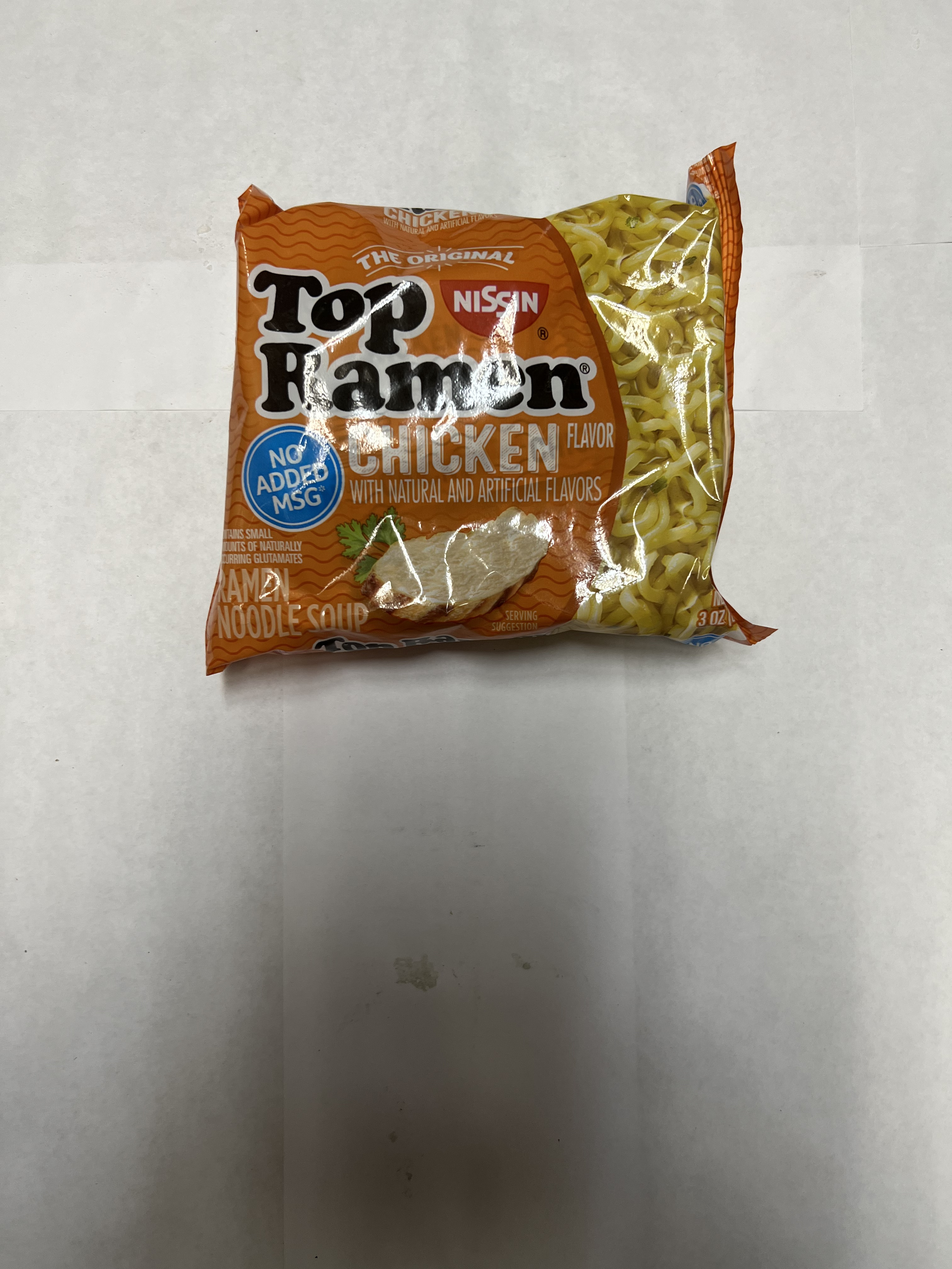packaged: (196, 142, 782, 682)
